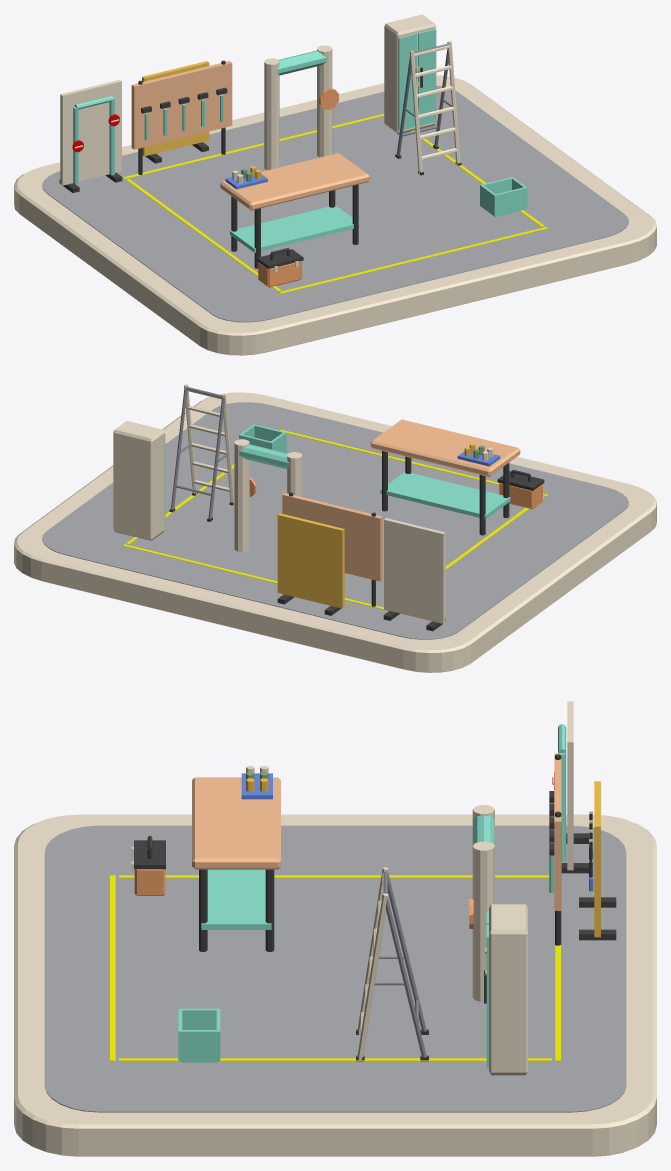
The model's file is room.fbx.
3 views of the same model, one above another, from view 1: azimuth 30°, elevation 25°; view 2: azimuth 150°, elevation 25°; view 3: azimuth 270°, elevation 25° (orthographic). The views are drawn at different scales.
Parts seen in each view (by area): view 1: COM-02 Floor Surface, COM-01 Rounded Base Direct, Peg board, Panel, Worktop, Lower shelf, Equipment case, Pipe, Door.001, Pipe.001, Door, Panel.001 (+9 smaller); view 2: COM-02 Floor Surface, COM-01 Rounded Base Direct, Equipment case, Panel, Panel.001, Worktop, Peg board, Lower shelf, Pipe.001, Cross pipe, Box, Pipe (+7 smaller); view 3: COM-02 Floor Surface, COM-01 Rounded Base Direct, Worktop, Equipment case, Lower shelf, Pipe.001, Bin side.001, Peg board, Panel, Work zone stripe, Rail.001, Work zone end (+11 smaller).
Boxes of the visible parts, box(x1,y1,x2,y2) form: COM-02 Floor Surface: box(42, 85, 628, 322); COM-01 Rounded Base Direct: box(14, 75, 656, 355); Peg board: box(131, 61, 232, 149); Panel: box(60, 80, 121, 185); Worktop: box(220, 153, 369, 210); Lower shelf: box(230, 205, 359, 252); Equipment case: box(384, 14, 435, 134); Pipe: box(264, 58, 279, 170); Door.001: box(418, 29, 436, 125); Pipe.001: box(317, 45, 332, 157); Door: box(398, 34, 416, 130); Panel.001: box(142, 61, 209, 156); COM-02 Floor Surface: box(42, 402, 628, 639); COM-01 Rounded Base Direct: box(14, 392, 656, 672); Equipment case: box(113, 421, 164, 540); Panel: box(384, 518, 445, 623); Panel.001: box(277, 513, 344, 608); Worktop: box(370, 419, 520, 476); Peg board: box(282, 493, 382, 581); Lower shelf: box(380, 472, 510, 519); Pipe.001: box(234, 439, 249, 551); Cross pipe: box(239, 444, 289, 468); Box: box(499, 483, 542, 509); Pipe: box(287, 452, 302, 496); COM-02 Floor Surface: box(44, 825, 626, 1112); COM-01 Rounded Base Direct: box(14, 814, 656, 1156); Worktop: box(192, 777, 280, 869); Equipment case: box(489, 904, 527, 1075); Lower shelf: box(201, 869, 271, 929); Pipe.001: box(472, 841, 494, 1001); Bin side.001: box(178, 1030, 220, 1061); Peg board: box(554, 753, 561, 910); Panel: box(567, 701, 573, 870); Work zone stripe: box(119, 875, 549, 878); Rail.001: box(357, 893, 388, 1060); Work zone end: box(110, 875, 115, 1061).
Size of the model in its own units: 600 by 178 by 520.
